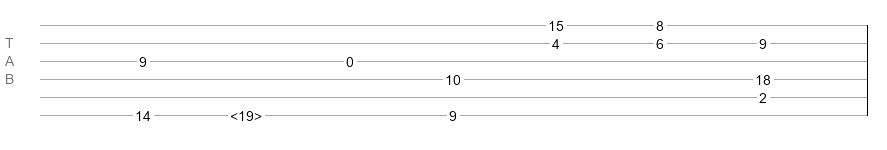0: (346, 54, 354, 64)
10: (445, 72, 461, 82)
14: (135, 108, 151, 118)
15: (548, 18, 564, 28)
18: (755, 72, 771, 82)
2: (759, 90, 767, 100)
4: (552, 36, 560, 46)
6: (656, 36, 664, 46)
8: (656, 18, 664, 28)
9: (139, 54, 147, 64), (449, 108, 457, 118), (759, 36, 767, 46)
harmonic: (230, 108, 262, 118)
